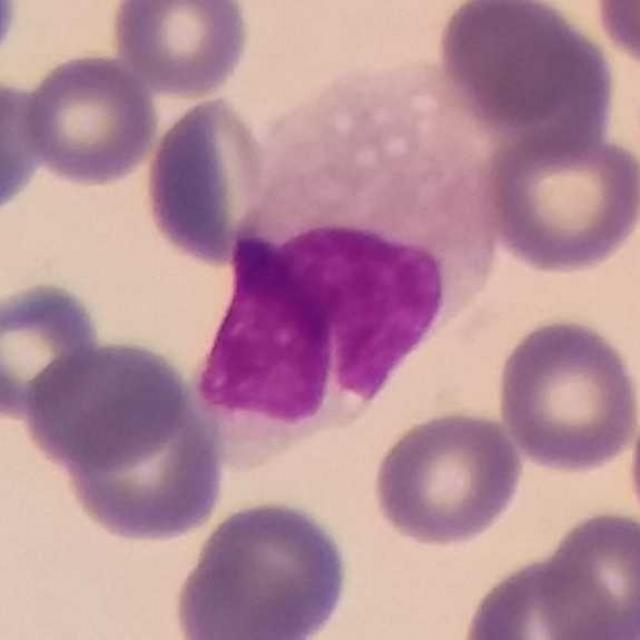Monocyte: (187, 65, 510, 438)
RBC: (52, 368, 228, 546), (431, 0, 620, 148), (170, 494, 355, 640), (476, 124, 639, 277), (20, 335, 196, 474), (140, 92, 277, 270), (492, 313, 640, 475), (368, 405, 528, 550), (15, 50, 160, 188), (0, 277, 107, 422), (458, 552, 626, 640), (106, 0, 255, 99), (536, 506, 640, 639), (0, 71, 47, 226), (590, 0, 640, 75)
